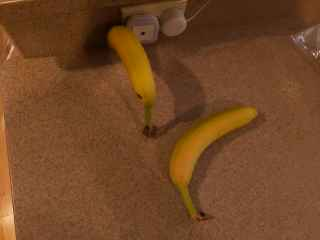banana: (167, 106, 260, 227), (103, 22, 161, 141)
